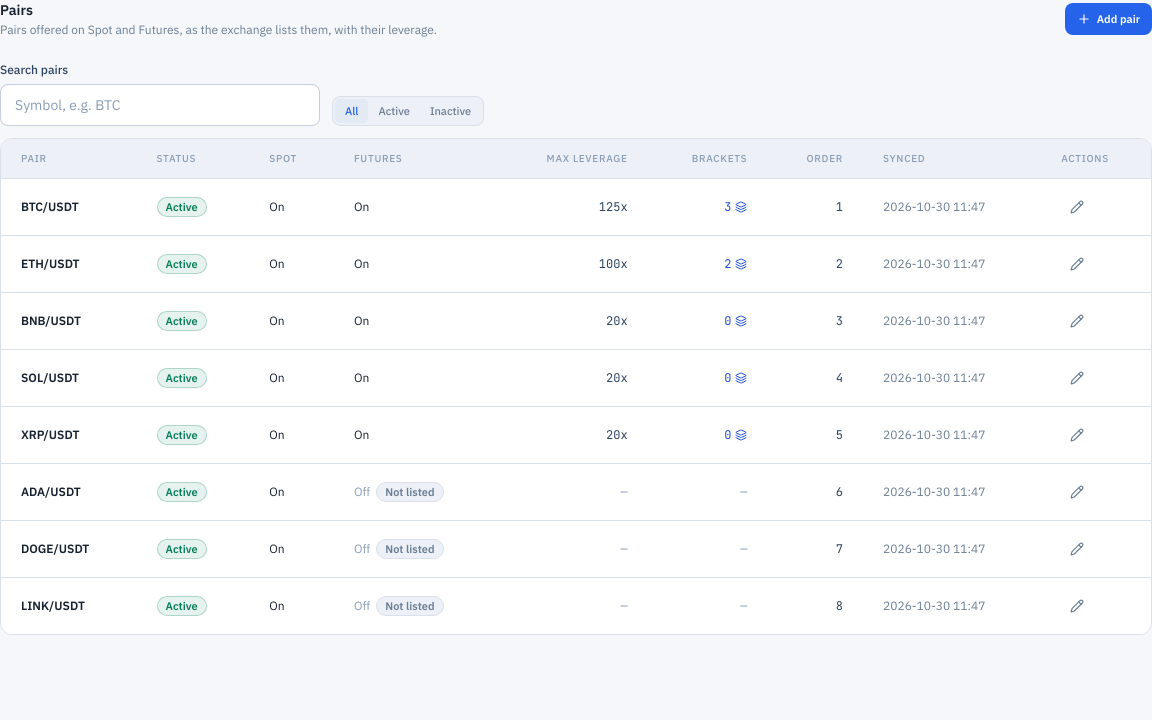
SCR-37 pairs (UC-45) › says when the ceiling is above the first bracket (BR-26)
Click the button named "Edit ETH/USDT" at [1077, 264], box [1061,248,1093,280]
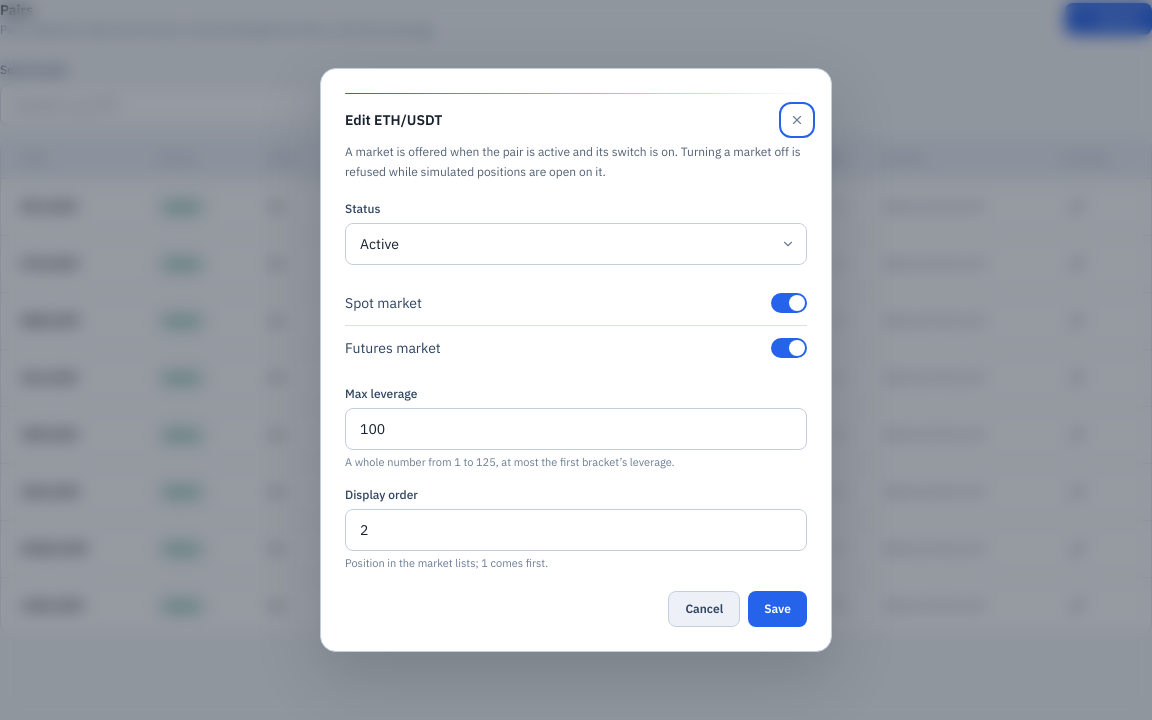
Replace the text in the field labelled "Max leverage" with "110" at [576, 429], box [345,408,807,450]
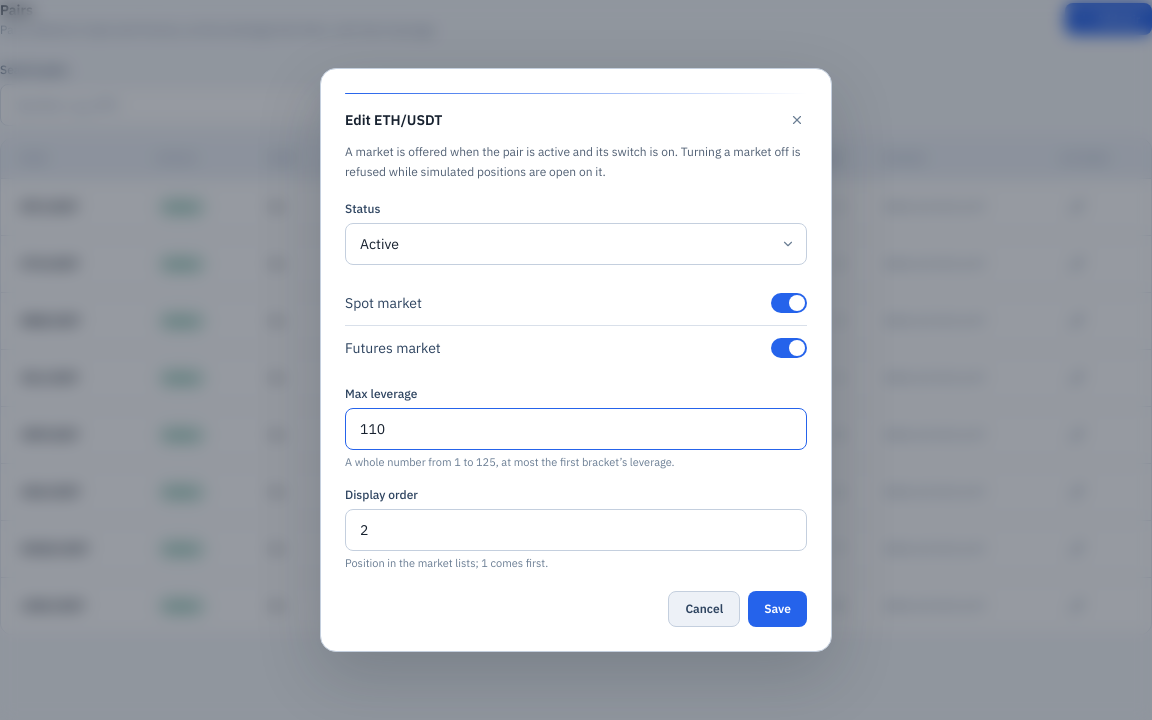
Click the button "Save" at [778, 609], box [748,591,807,627]
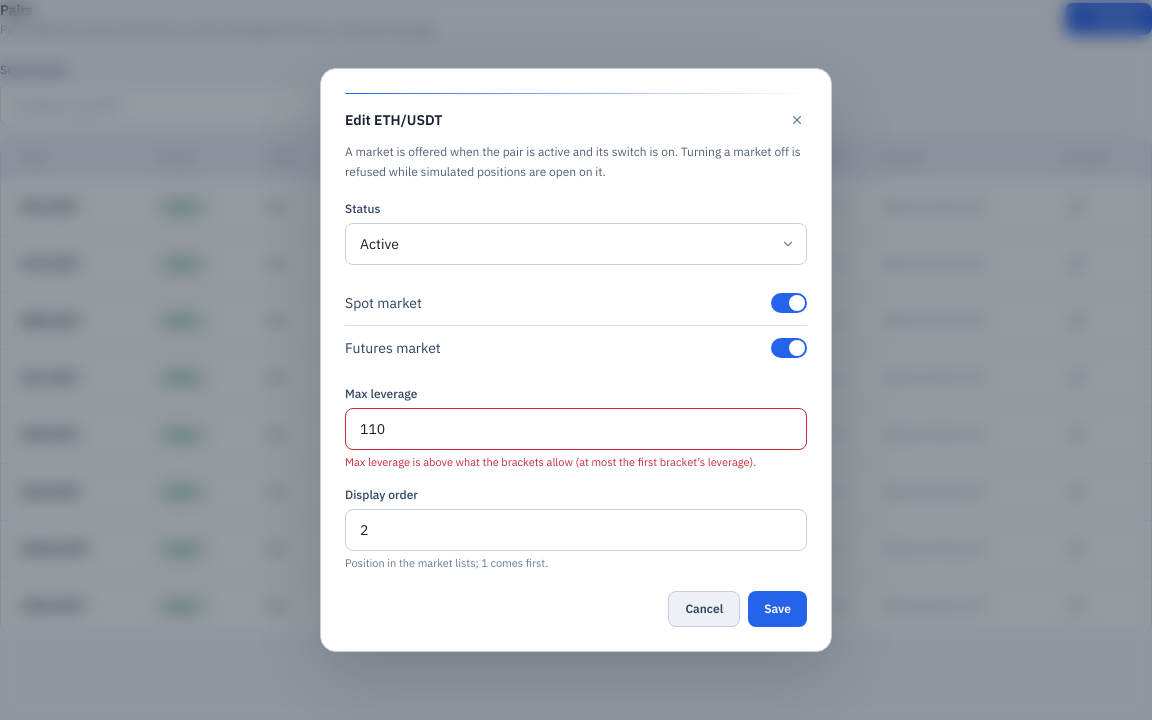
Now the text "Max leverage is above what the brackets allow (at most the first bracket’s leverage)." is shown, box [345,455,756,469]
